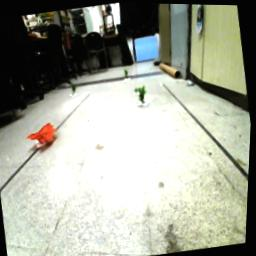herb: (134, 83, 152, 107), (71, 83, 80, 97)
wild: (25, 121, 62, 152)
